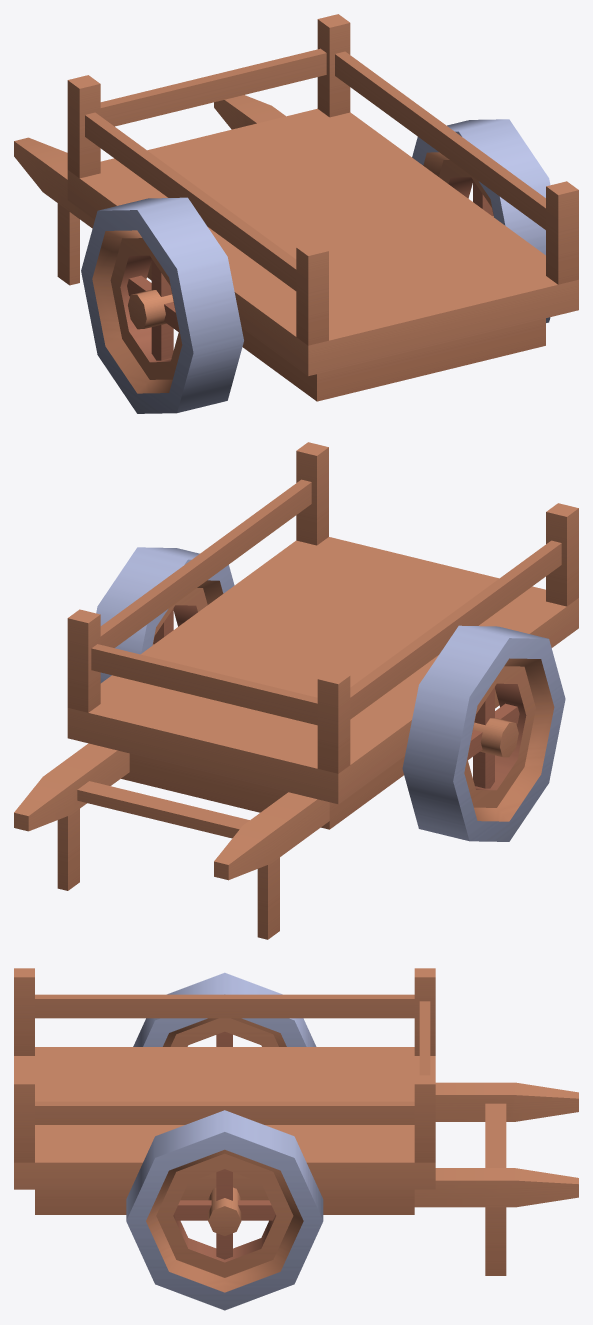
The model's file is cart.fbx.
The picture shows the model from 3 angles, top to bottom: view 1: azimuth 30°, elevation 25°; view 2: azimuth 150°, elevation 25°; view 3: azimuth 270°, elevation 25°; orthographic projection. The views are drawn at different scales.
Visible parts, largest first — view 1: cart, Group_1, Group; view 2: cart, Group_1, Group; view 3: cart, Group, Group_1.
Part boxes in pixels (x1=…): cart: x1=14, y1=14, x2=578, y2=401; Group_1: x1=81, y1=197, x2=243, y2=413; Group: x1=412, y1=119, x2=550, y2=322; cart: x1=14, y1=442, x2=578, y2=939; Group_1: x1=402, y1=625, x2=565, y2=841; Group: x1=96, y1=547, x2=234, y2=683; cart: x1=14, y1=968, x2=578, y2=1275; Group: x1=126, y1=1110, x2=323, y2=1310; Group_1: x1=133, y1=972, x2=316, y2=1046.
Size of the model in its own units: 89.3 by 53.55 by 134.
Materials: 1 (1 with a texture image).
